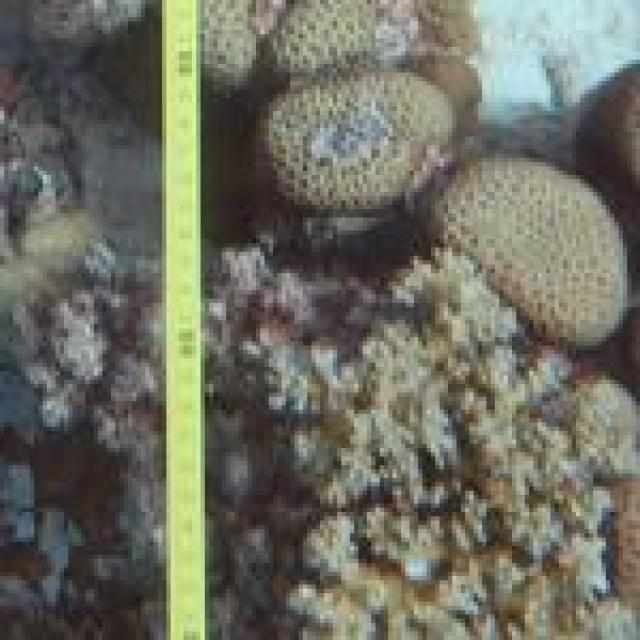Bleached Coral: (220, 188, 639, 640)
